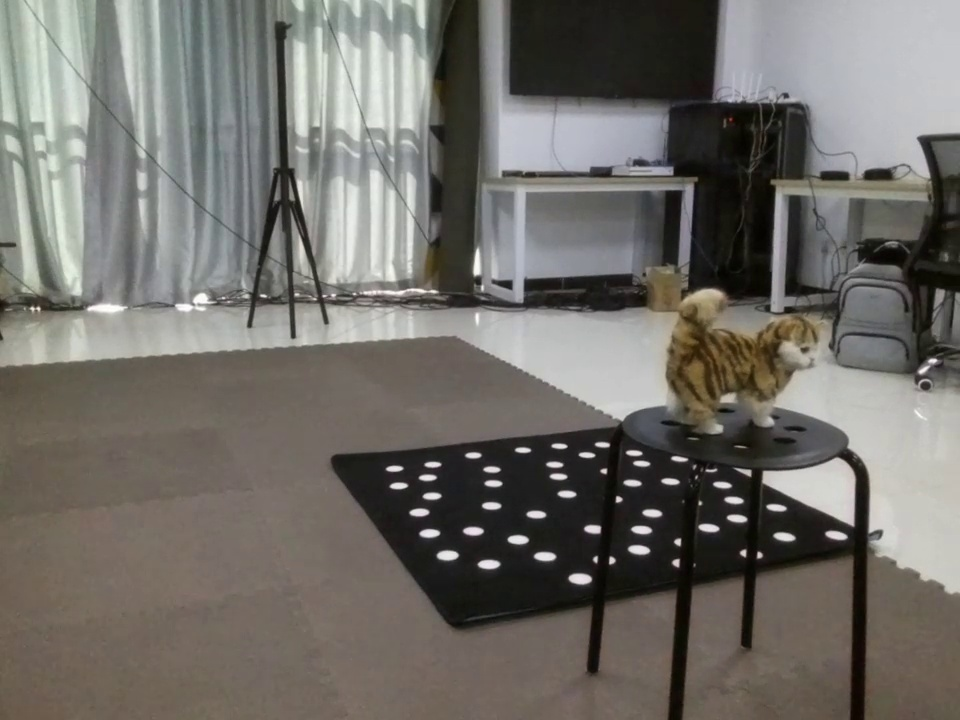cat: (634, 283, 835, 435)
